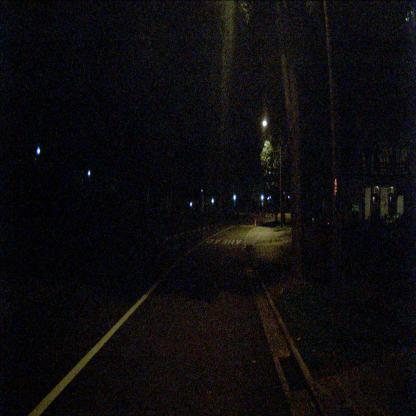movable_object-trafficcone: (254, 219, 257, 228)
